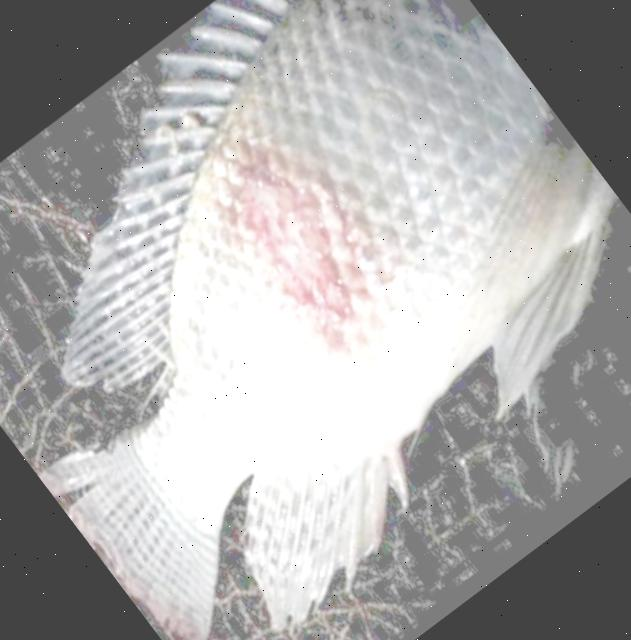Tilapia Lake Virus -TiLV-: (39, 0, 611, 640)
